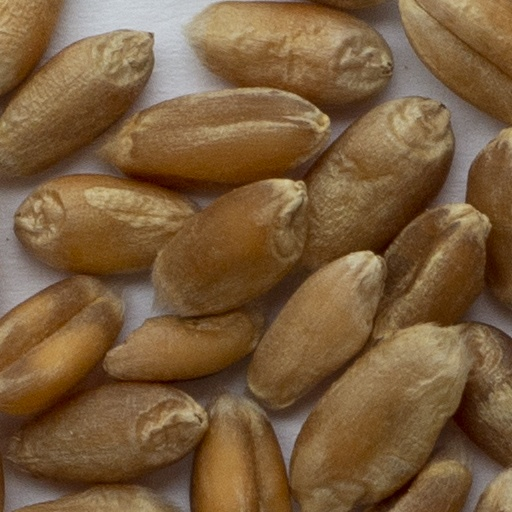Wheat-grain: (293, 324, 471, 511), (300, 97, 454, 269), (181, 0, 398, 111), (0, 28, 158, 178), (101, 88, 330, 186), (145, 179, 307, 316), (245, 254, 381, 411), (3, 382, 209, 483), (10, 176, 201, 278), (0, 279, 119, 418), (373, 204, 491, 339), (391, 0, 511, 125), (190, 385, 289, 511), (103, 313, 257, 381), (463, 128, 511, 318), (462, 318, 511, 467), (0, 0, 66, 100), (358, 462, 472, 511), (11, 483, 179, 511), (473, 471, 511, 511), (303, 0, 390, 11), (0, 442, 8, 511), (0, 251, 3, 283)
